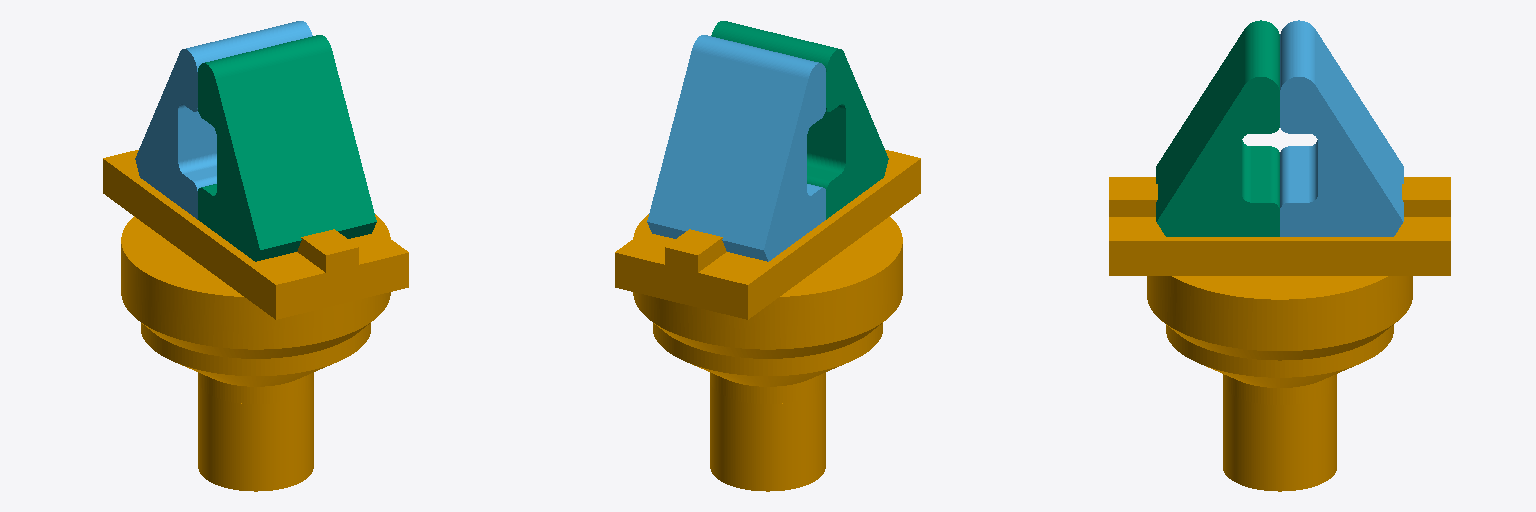
URDF robot description (pjm_rail):
<?xml version="1.0" ?>
<robot name="pjm_rail">


  <link name="pjm">
  <!-- IEEM -->
    <visual>
      <origin rpy="0 0 0" xyz="0 0 0"/>
      <geometry>
        <mesh filename="package://meshes/IEEM.obj" scale="0.001 0.001 0.001"/>
      </geometry>
    </visual>
    <collision>
      <origin rpy="0 0 0" xyz="0 0 0"/>
      <geometry>
        <mesh filename="package://meshes/IEEM.obj" scale="0.001 0.001 0.001"/>
      </geometry>
    </collision>

  <!-- Gripper Base -->
    <visual>
      <origin rpy="0 0 0" xyz="0 0 0.03"/>
      <geometry>
        <mesh filename="package://meshes/gripper_base.obj" scale="0.001 0.001 0.001"/>
      </geometry>
    </visual>
    <collision>
      <origin rpy="0 0 0" xyz="0 0 0.03"/>
      <geometry>
        <mesh filename="package://meshes/gripper_base.obj" scale="0.001 0.001 0.001"/>
      </geometry>
    </collision>

  </link>

  <!-- Left mandible -->
  <link name="lm">
    <visual>
      <origin rpy="-1.57079632679 0 0" xyz="-0.0175 0.075 0"/>
      <geometry>
        <mesh filename="package://meshes/hand_rail_claw.obj" scale="0.001 0.001 0.001"/>
      </geometry>
    </visual>
    <collision>
      <origin rpy="-1.57079632679 0 0" xyz="-0.0175 0.075 0"/>
      <geometry>
        <mesh filename="package://meshes/hand_rail_claw.obj" scale="0.001 0.001 0.001"/>
      </geometry>
    </collision>
  </link>
  <joint name="lm" type="prismatic">
    <parent link="pjm"/>
    <child link="lm"/>
    <origin xyz="0 0 0" rpy= "1.57079632679 0 0"/>
    <axis xyz="0 0 1"/>
    <limit effort="1000" velocity="1000" lower="-0.03" upper="0" />
  </joint>

  <!-- Right mandible -->
  <link name="rm">
    <visual>
      <origin rpy="-1.57079632679 3.14159265359 0" xyz="0.0175 0.075 0"/>
      <geometry>
        <mesh filename="package://meshes/hand_rail_claw.obj" scale="0.001 0.001 0.001"/>
      </geometry>
    </visual>
    <collision>
      <origin rpy="-1.57079632679 3.14159265359 0" xyz="0.0175 0.075 0"/>
      <geometry>
        <mesh filename="package://meshes/hand_rail_claw.obj" scale="0.001 0.001 0.001"/>
      </geometry>
    </collision>
  </link>
  <joint name="rm" type="prismatic">
    <parent link="pjm"/>
    <child link="rm"/>
    <origin xyz="0 0 0" rpy= "1.57079632679 0 0"/>
    <axis xyz="0 0 1"/>
    <limit effort="1000" velocity="1000" lower="0" upper="0.03" />
  </joint>

</robot>

--- Render facts (derived) ---
The picture shows the robot from 3 angles, left to right: view 1: azimuth 30°, elevation 25°; view 2: azimuth 150°, elevation 25°; view 3: azimuth 270°, elevation 25°; orthographic projection.
Model pjm_rail with 3 links and 2 joints (2 prismatic), rooted at pjm, posed all joints at 0.
Visible links, largest first — view 1: pjm, rm, lm; view 2: pjm, lm, rm; view 3: pjm, lm, rm.
Boxes of the visible links, left/top/right/bottom form: pjm: left=103, top=150, right=408, bottom=491; rm: left=198, top=35, right=376, bottom=261; lm: left=135, top=21, right=312, bottom=219; pjm: left=615, top=150, right=920, bottom=491; lm: left=647, top=35, right=825, bottom=261; rm: left=711, top=21, right=888, bottom=219; pjm: left=1109, top=177, right=1450, bottom=491; lm: left=1280, top=20, right=1403, bottom=236; rm: left=1156, top=20, right=1279, bottom=236.
Bounding box of the posed robot: 0.07 × 0.09 × 0.1215 m (x, y, z).
4 mesh visuals loaded from 3 distinct referenced files (3 OBJ).
